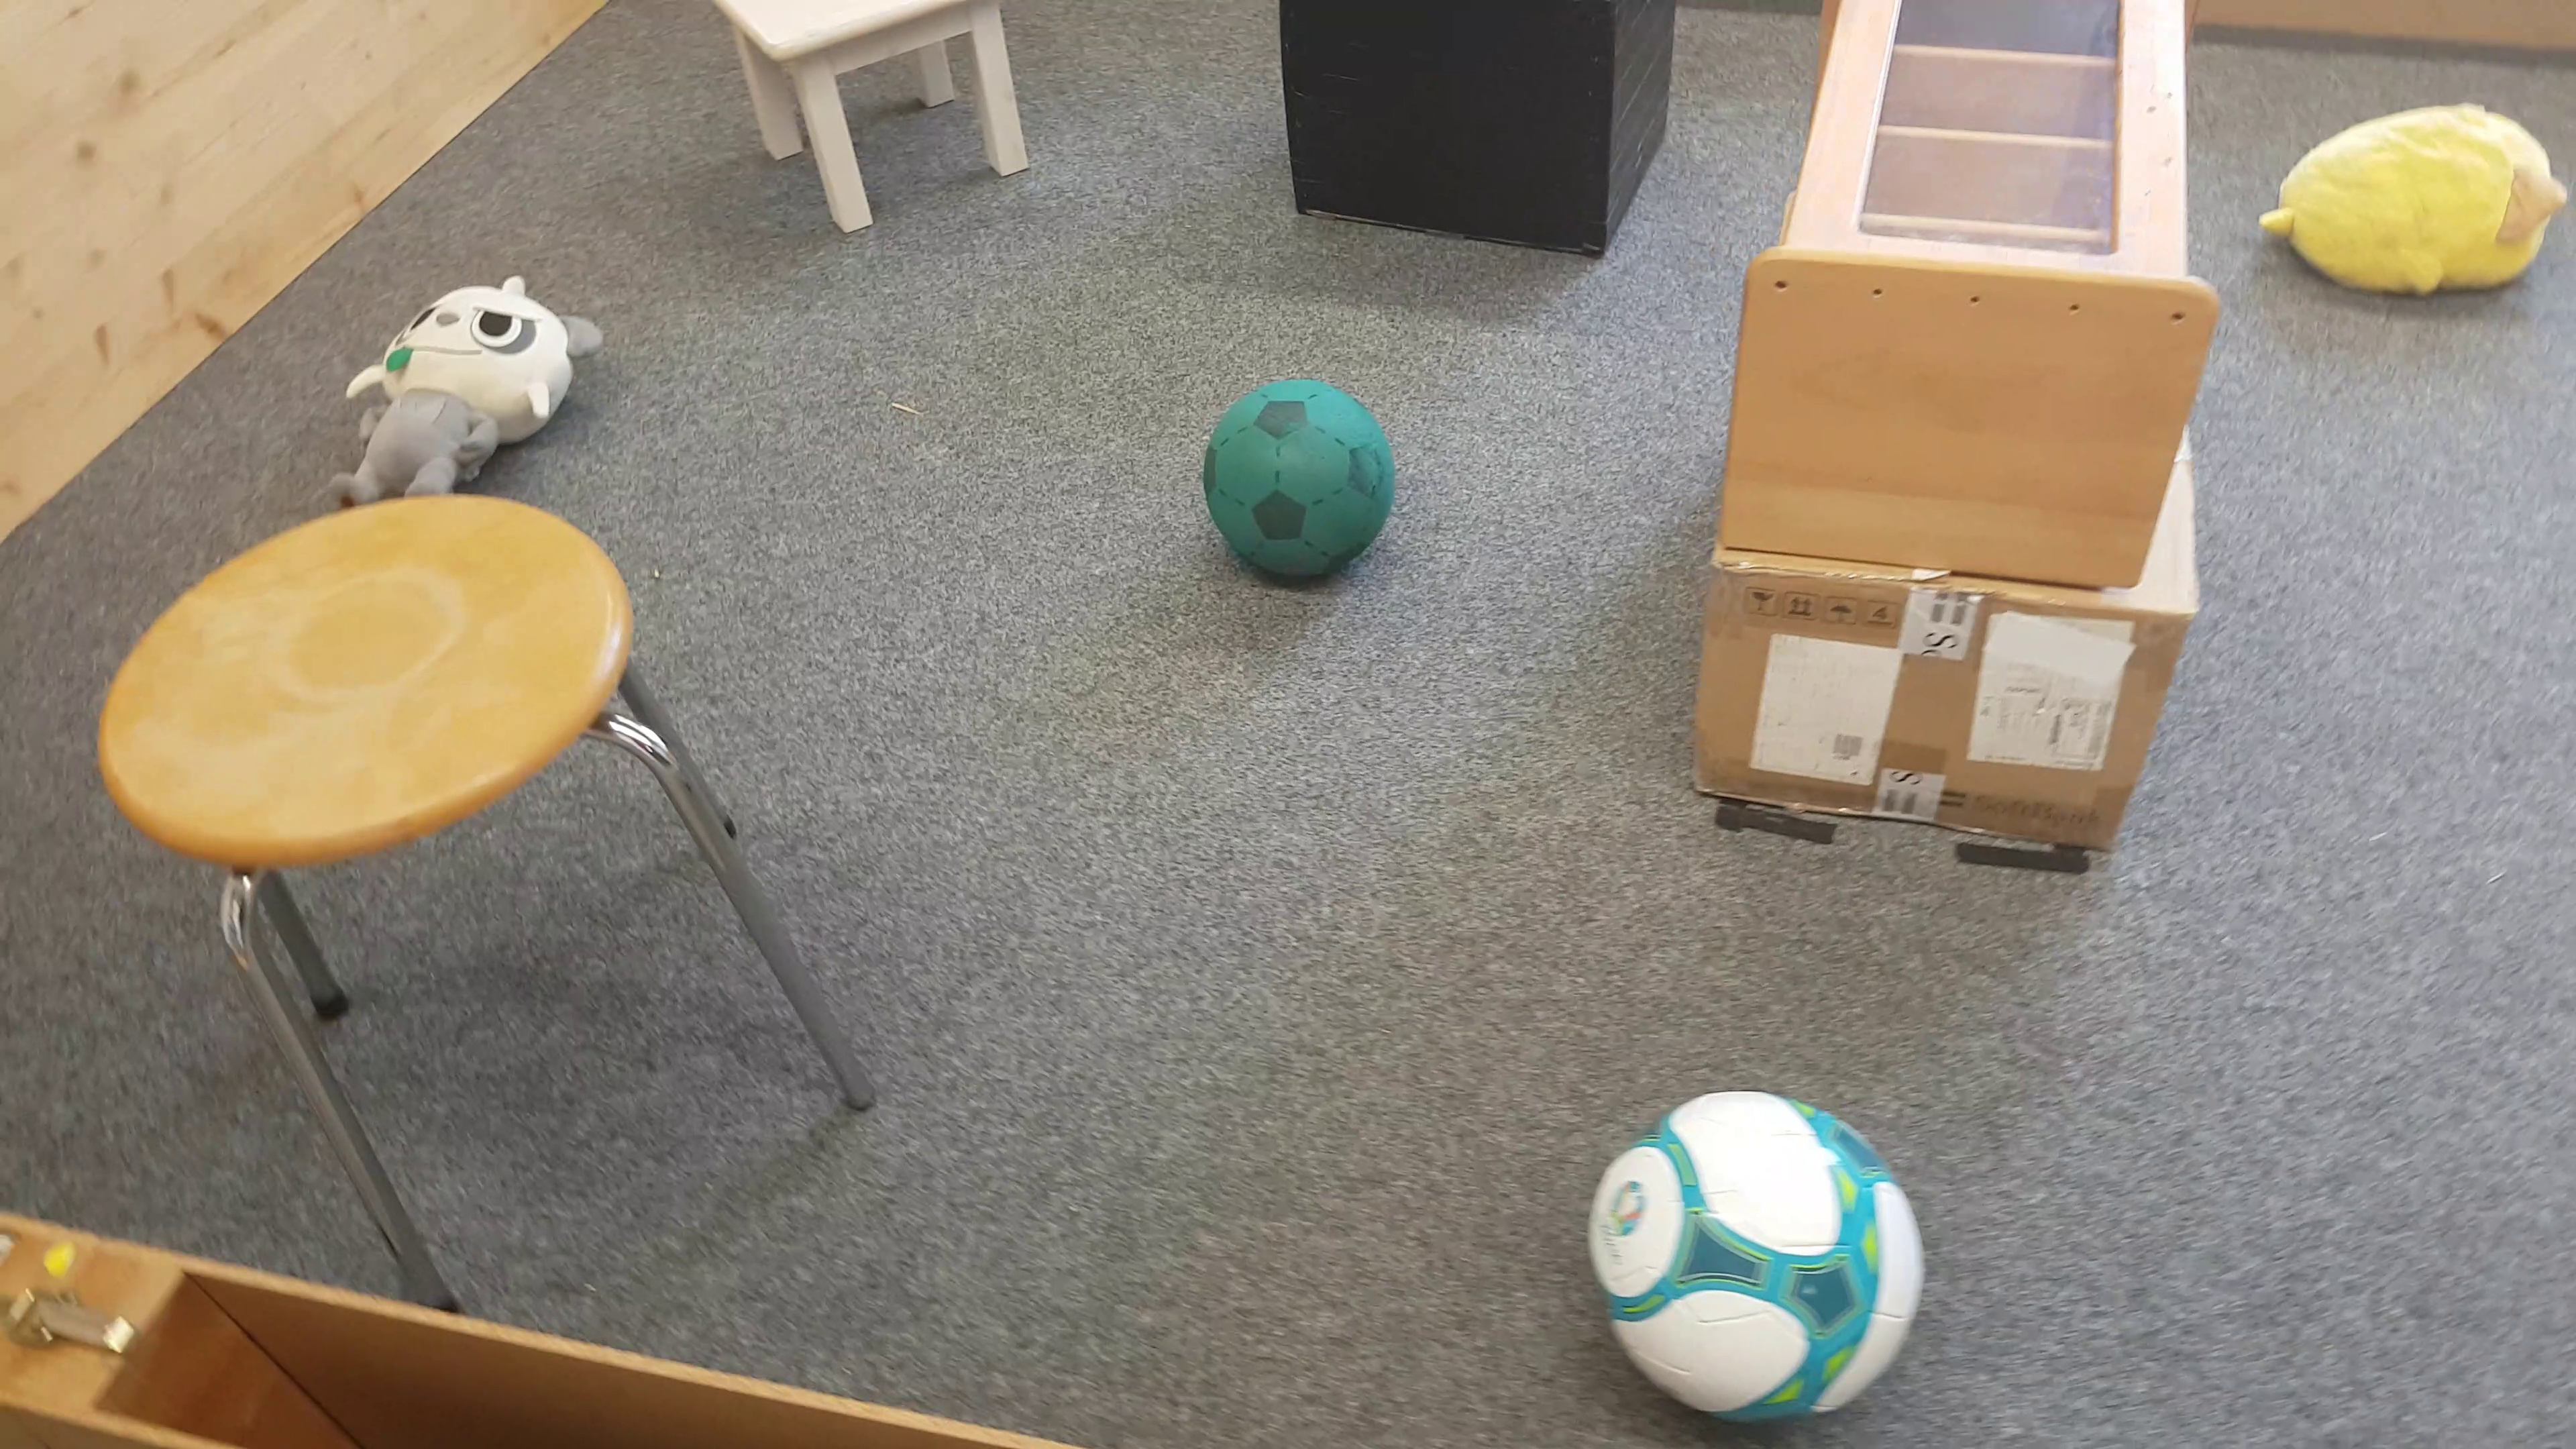grasp: (2266, 101, 2571, 304), (331, 272, 603, 494)
kick: (1587, 1090, 1930, 1430), (1205, 384, 1405, 591)
push: (1276, 4, 1679, 257)
